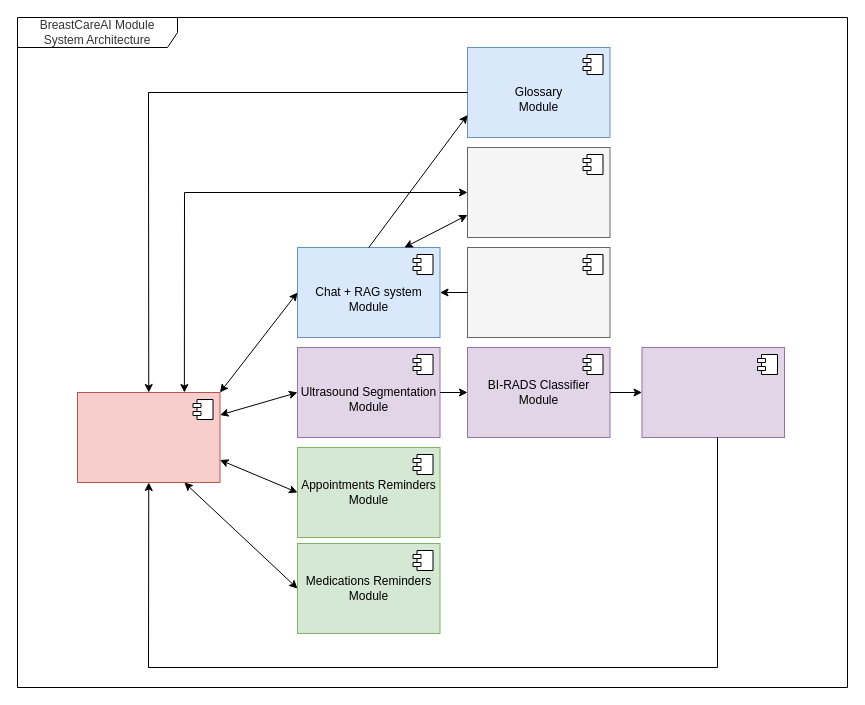
Image size: 865x705. Some labels were removed from this diagram. Each missing label, with the box of its shape:
TTS & STT Module: (466, 146, 610, 238)
User Interface (Streamlit): (76, 392, 220, 482)
Vision Explainer Module: (641, 346, 784, 438)
Web Scraper Module: (466, 246, 610, 338)
